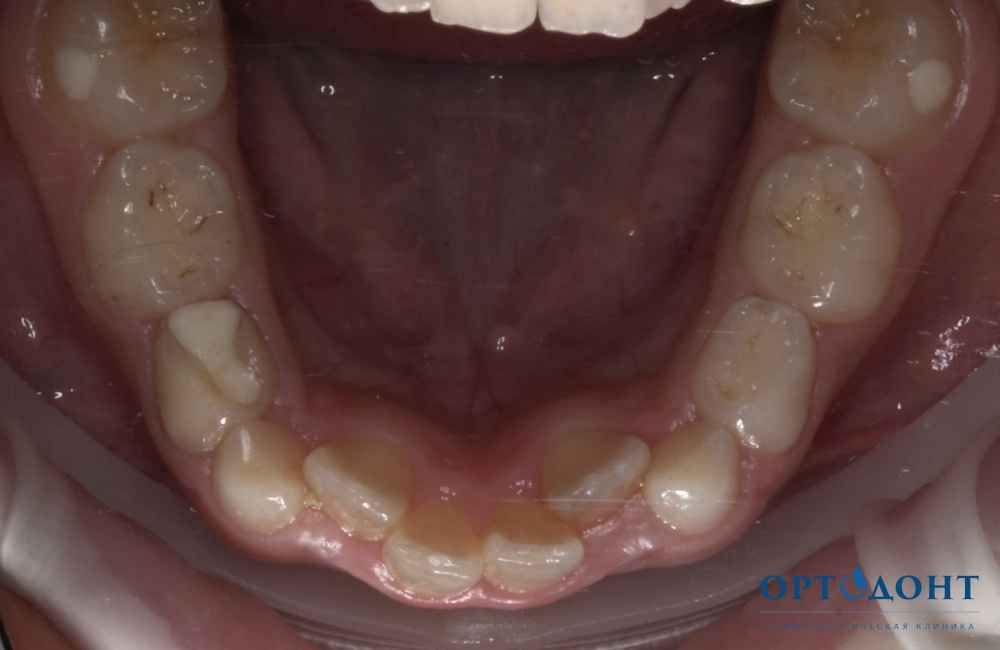LR1BC_decay: (153, 299, 277, 435)
LR1BC_healthy: (699, 293, 815, 451)
LR1M_decay: (775, 7, 965, 147), (48, 2, 230, 135)
LR2BC_decay: (739, 146, 901, 318), (84, 147, 243, 296)
LRCI_healthy: (485, 490, 584, 596), (384, 499, 484, 589)
LRC_healthy: (646, 427, 742, 535), (222, 421, 307, 522)
LRLI_healthy: (305, 435, 411, 542), (542, 425, 645, 515)
